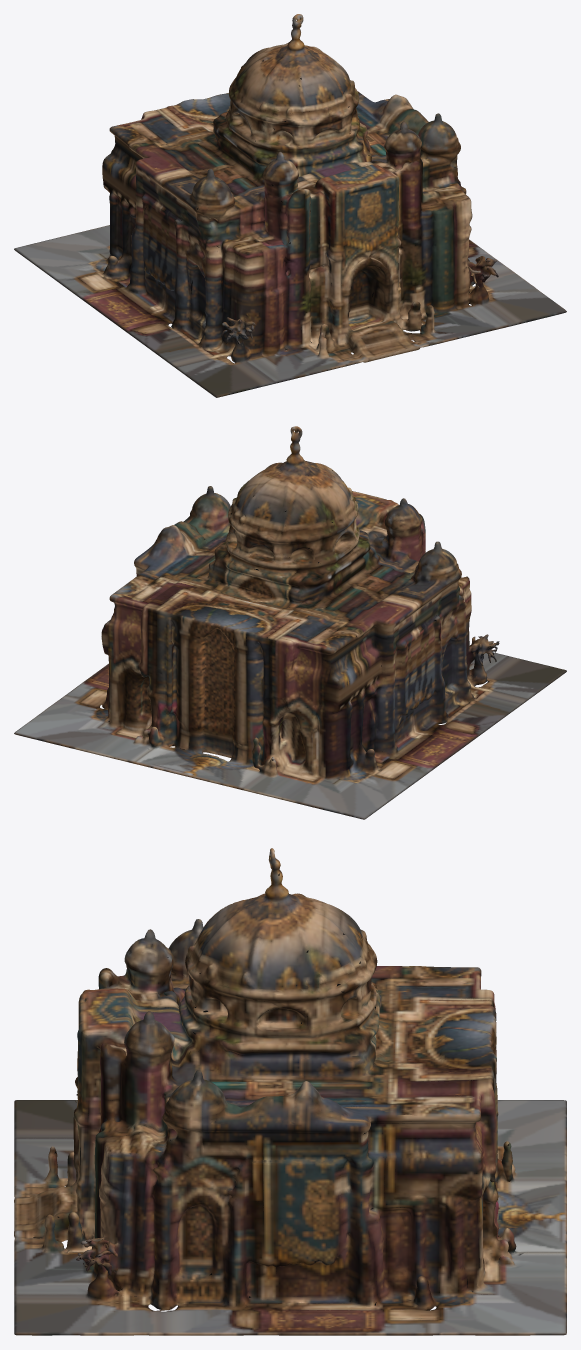
Rendered from review-building-owl-f76ec839e4cd.glb.
3 renders of one model, top to bottom at view 1: azimuth 30°, elevation 25°; view 2: azimuth 150°, elevation 25°; view 3: azimuth 270°, elevation 25°, orthographic. The views are drawn at different scales.
Parts seen in each view (by area): view 1: owl | building material review; view 2: owl | building material review; view 3: owl | building material review.
Part boxes in pixels (bbox=[...]): owl | building material review: bbox=[14, 14, 566, 397]; owl | building material review: bbox=[14, 426, 566, 819]; owl | building material review: bbox=[14, 848, 566, 1335].
Size of the model in its own units: 21.53 by 16 by 21.53.
2 materials, 1 textured.
